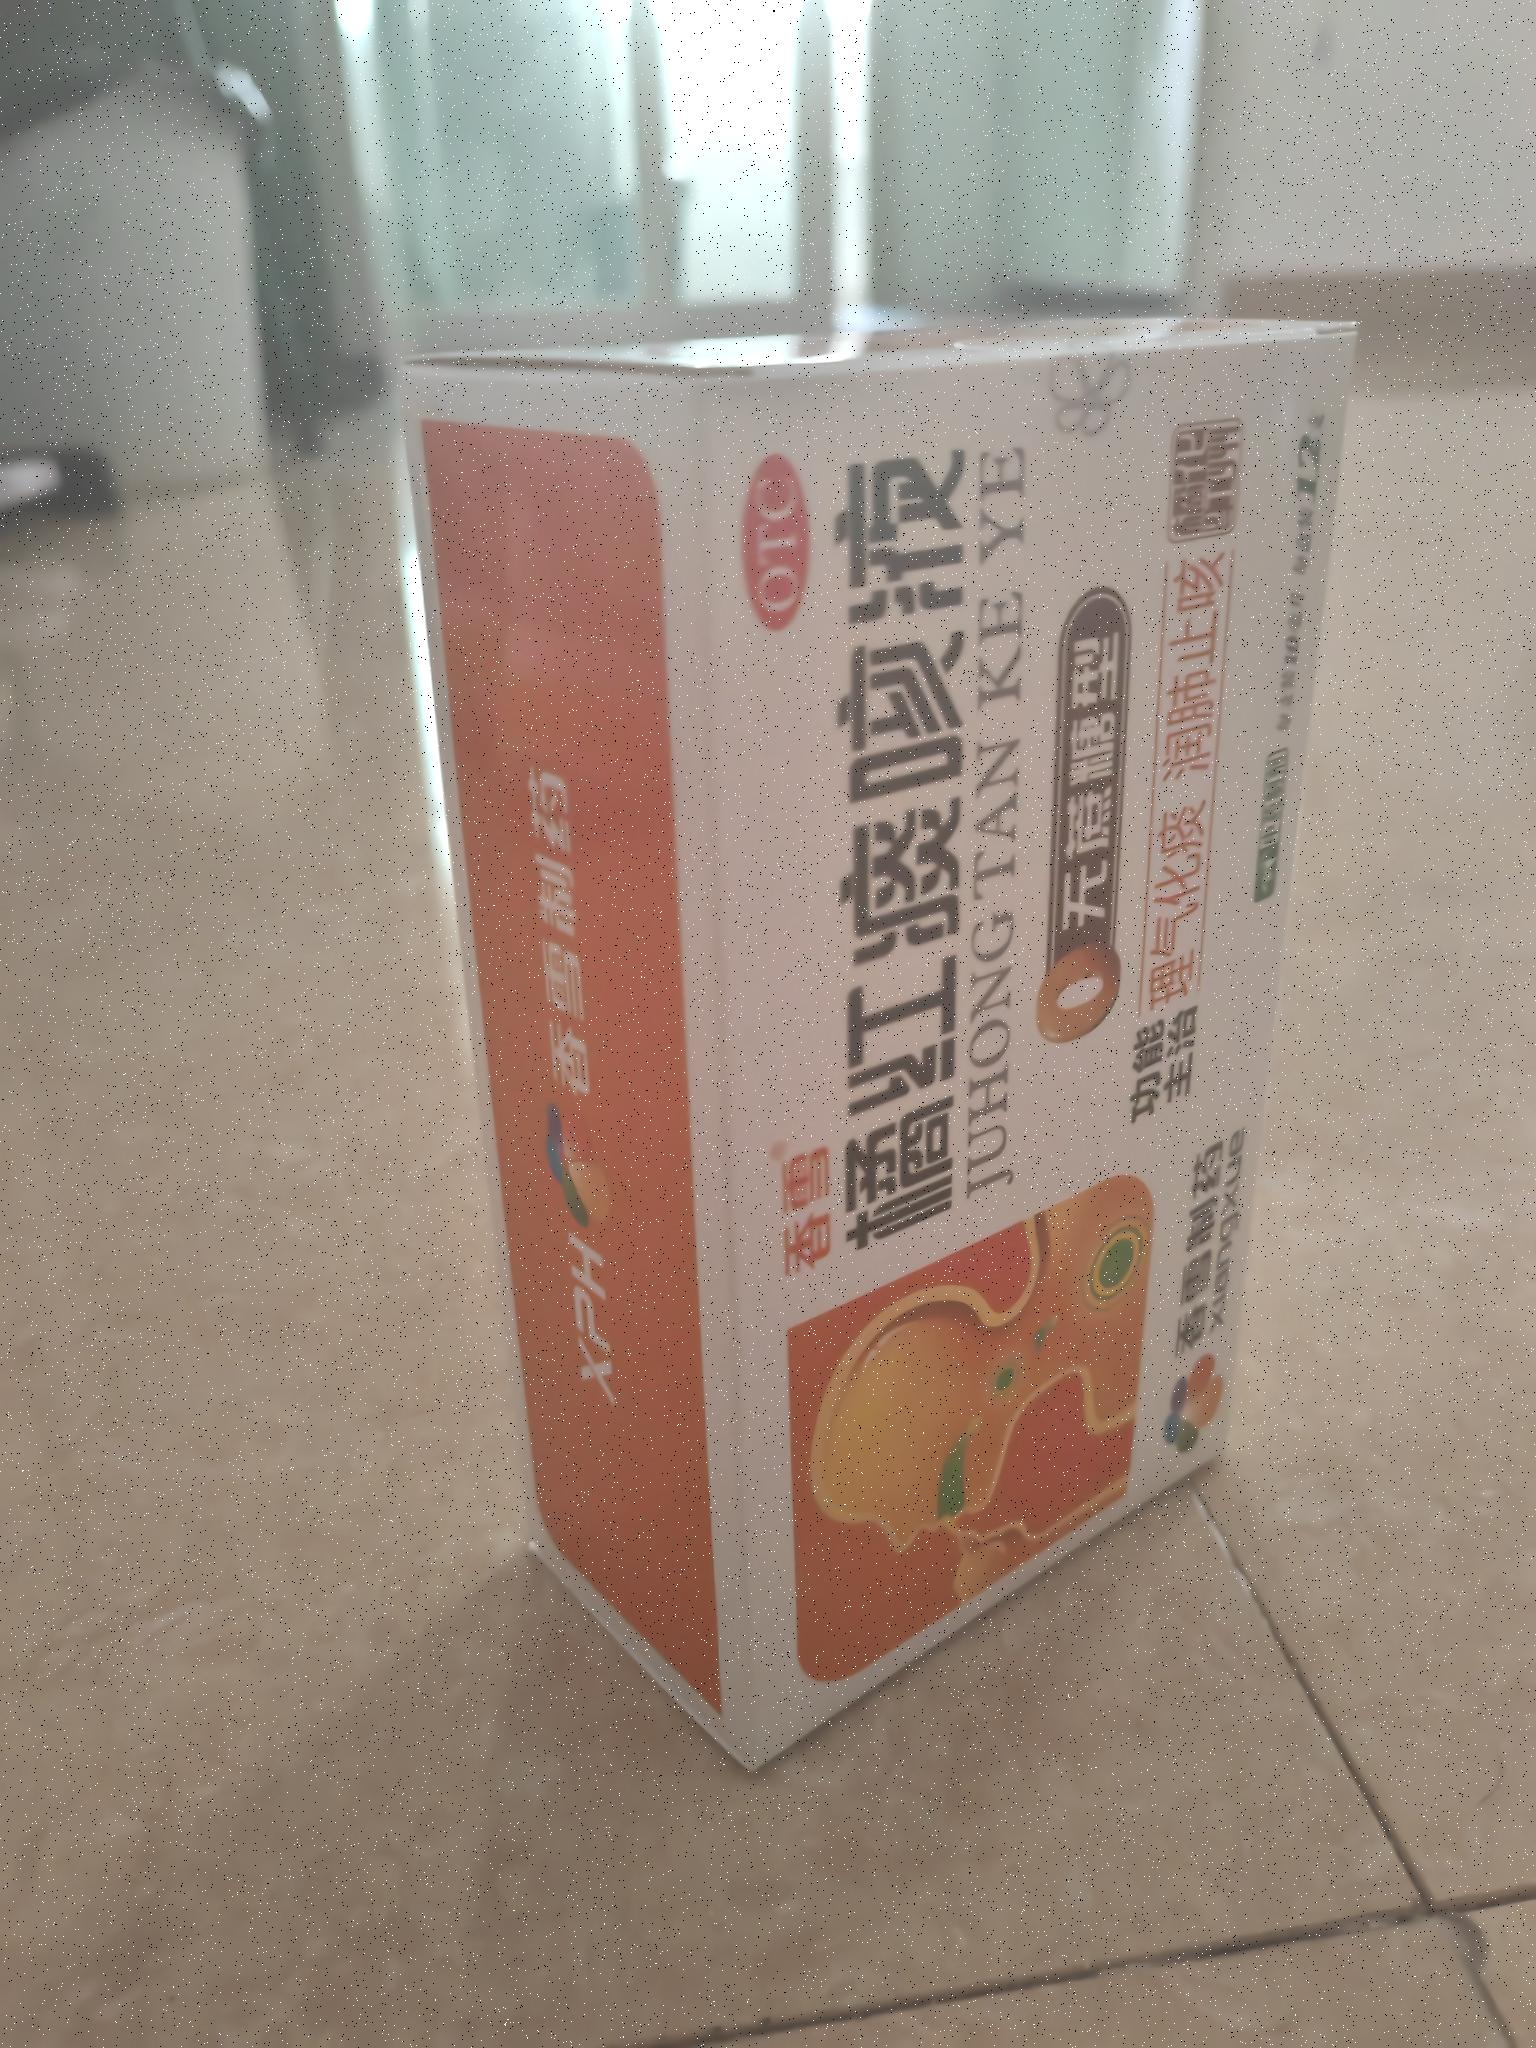Medicine1: (358, 303, 1383, 1787)
